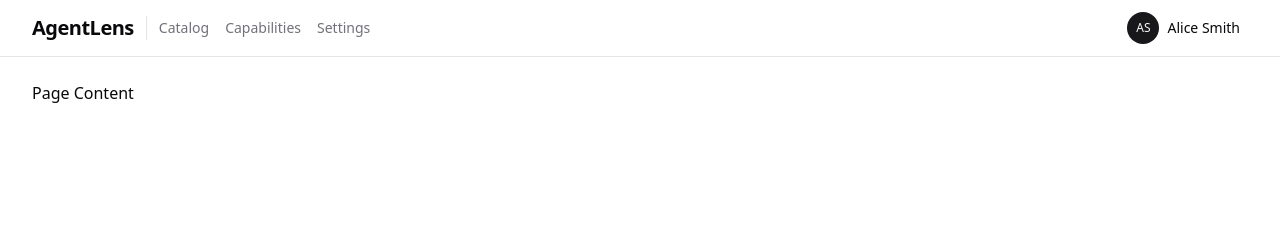
Test case: Layout › shows user dropdown with logout option when button is clicked
Click the text "AS": (1144, 28) top-left (1128, 12), bottom-right (1160, 44)
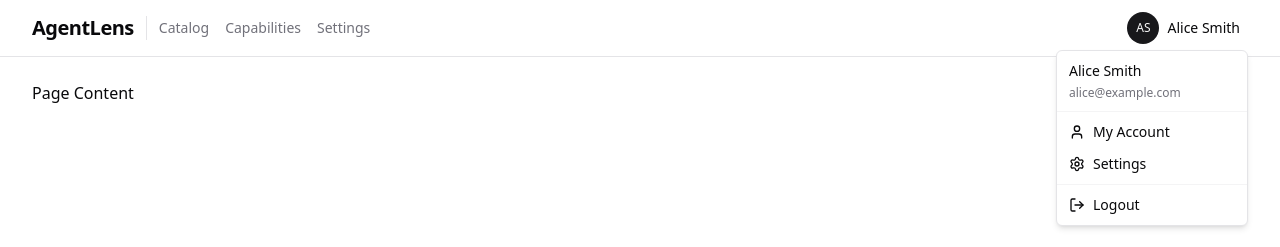
Expected: the menu item "Logout" is shown, top-left (1069, 195), bottom-right (1140, 214)
